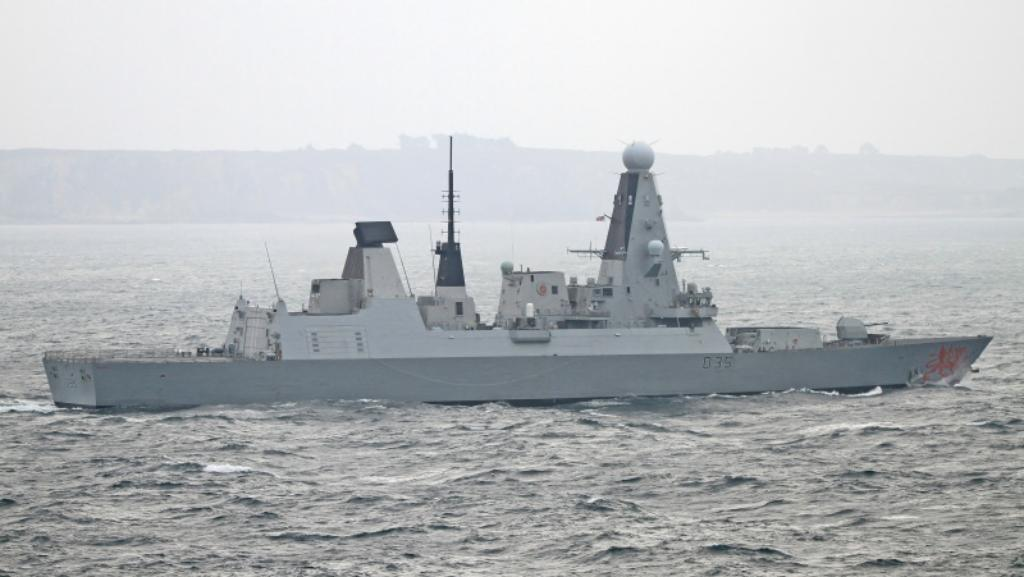Warship: (38, 126, 994, 414)
